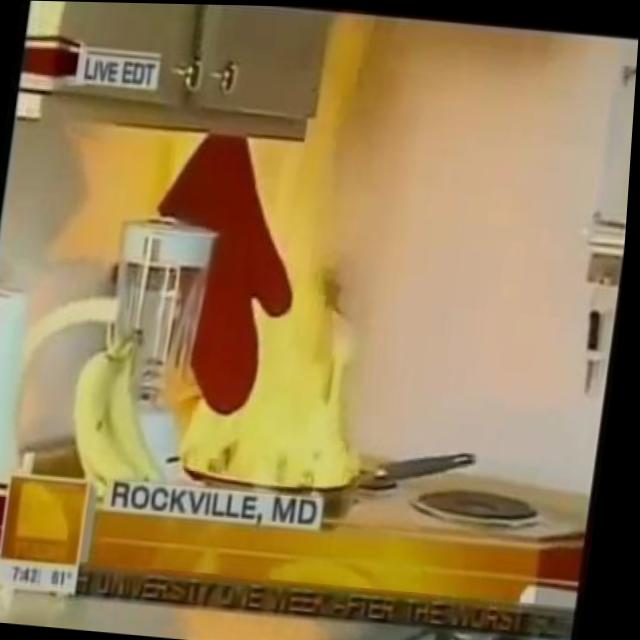fire: (146, 4, 416, 490)
